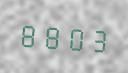eight: (18, 16, 39, 51), (40, 18, 61, 52)
three: (84, 21, 105, 55)
zero: (62, 19, 83, 54)
